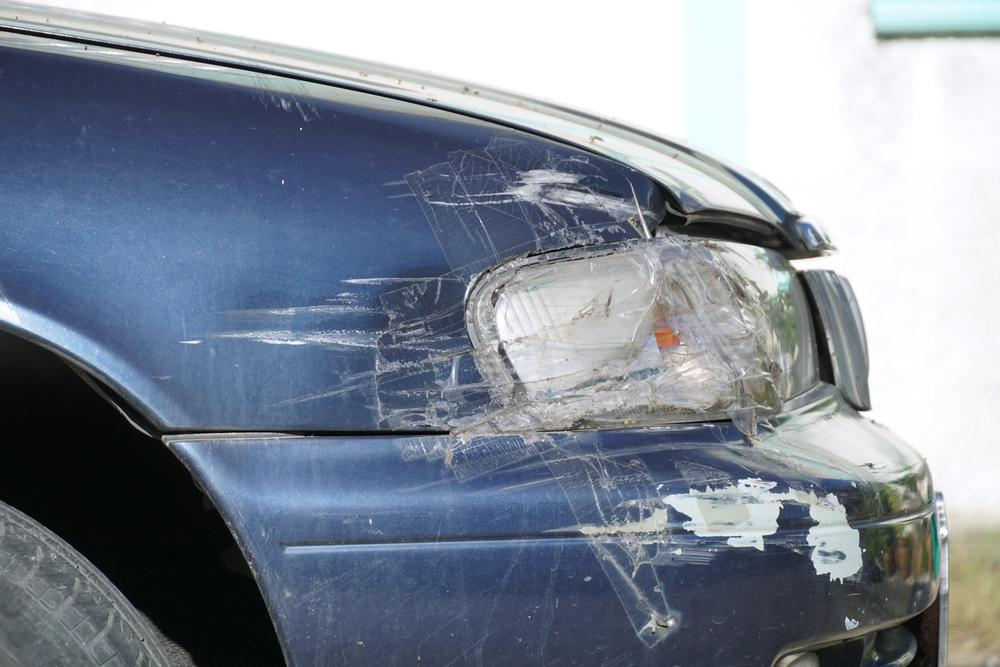scratch: (565, 470, 868, 588)
